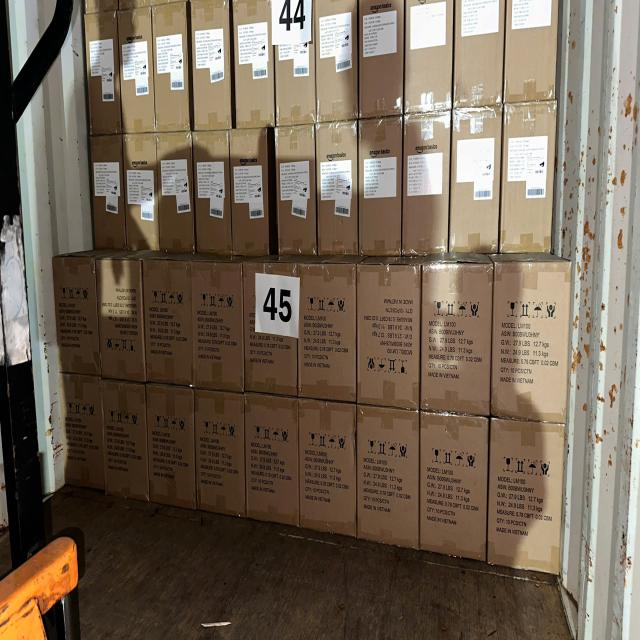Carton: (495, 260, 574, 420), (486, 416, 564, 574), (418, 258, 492, 417), (417, 413, 489, 562), (354, 259, 418, 411), (355, 408, 420, 552), (298, 256, 357, 404), (500, 105, 554, 258), (298, 405, 359, 540), (242, 259, 300, 397), (190, 252, 245, 393), (246, 393, 303, 526), (95, 250, 148, 385), (454, 107, 503, 253), (195, 390, 248, 518), (143, 256, 193, 388), (100, 379, 153, 503), (405, 113, 451, 255), (146, 385, 196, 510), (57, 370, 106, 493), (358, 118, 401, 257), (53, 256, 101, 376), (319, 120, 360, 259), (503, 0, 558, 102), (192, 0, 234, 131), (231, 2, 273, 132), (406, 0, 454, 112), (358, 0, 403, 117), (277, 125, 316, 259), (228, 129, 268, 258), (457, 0, 506, 105), (274, 3, 315, 128), (317, 0, 359, 118), (152, 2, 188, 131), (195, 131, 231, 257), (119, 7, 155, 132), (84, 10, 120, 134), (156, 133, 192, 254), (124, 133, 158, 253), (89, 136, 124, 251)
